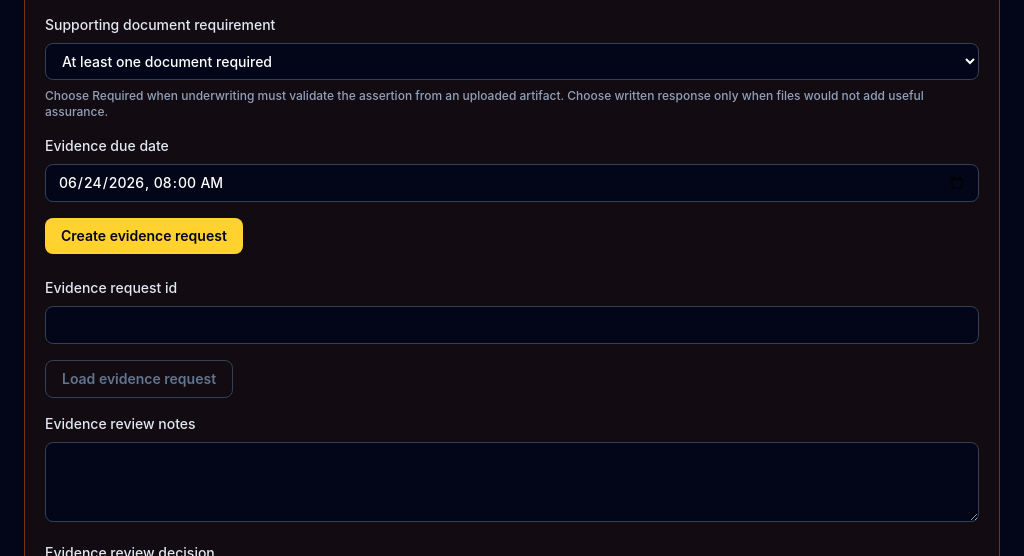
UnderwritingQuoteReferralsPage › opens one unread customer follow-up and records the acknowledgement
(page scrolled)
In the field labelled "Evidence request id": (512, 325) [45,306,979,344], type "evidence-1"
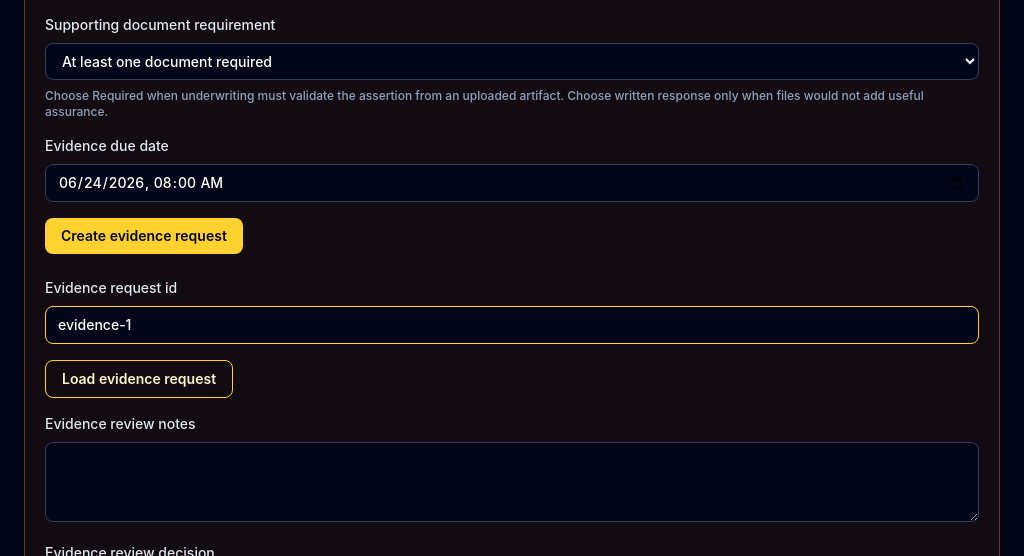
Click the button "Load evidence request": (139, 379) [45,360,233,398]
(page scrolled)
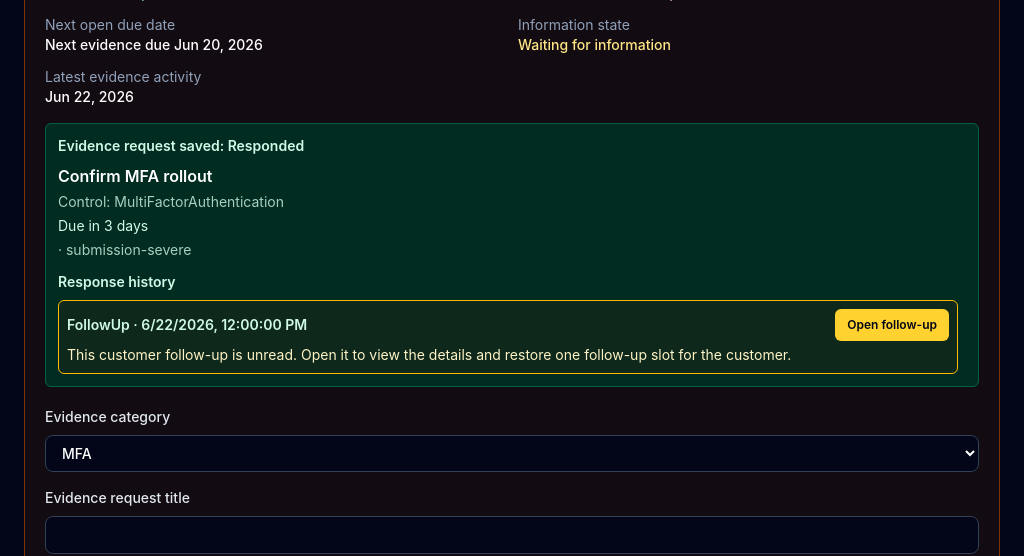
Expected: the text "A new mobile contact is available." is not shown
Result: the button "Open follow-up" is shown
Click the button "Open follow-up": (892, 325) [835,309,949,341]
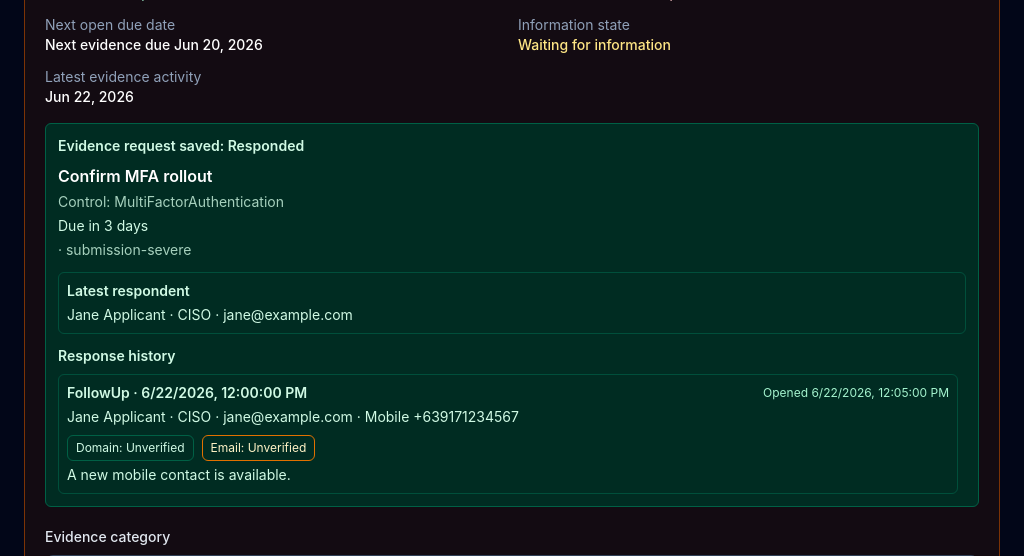
Result: the text "A new mobile contact is available." is shown at [67,466,291,483]
